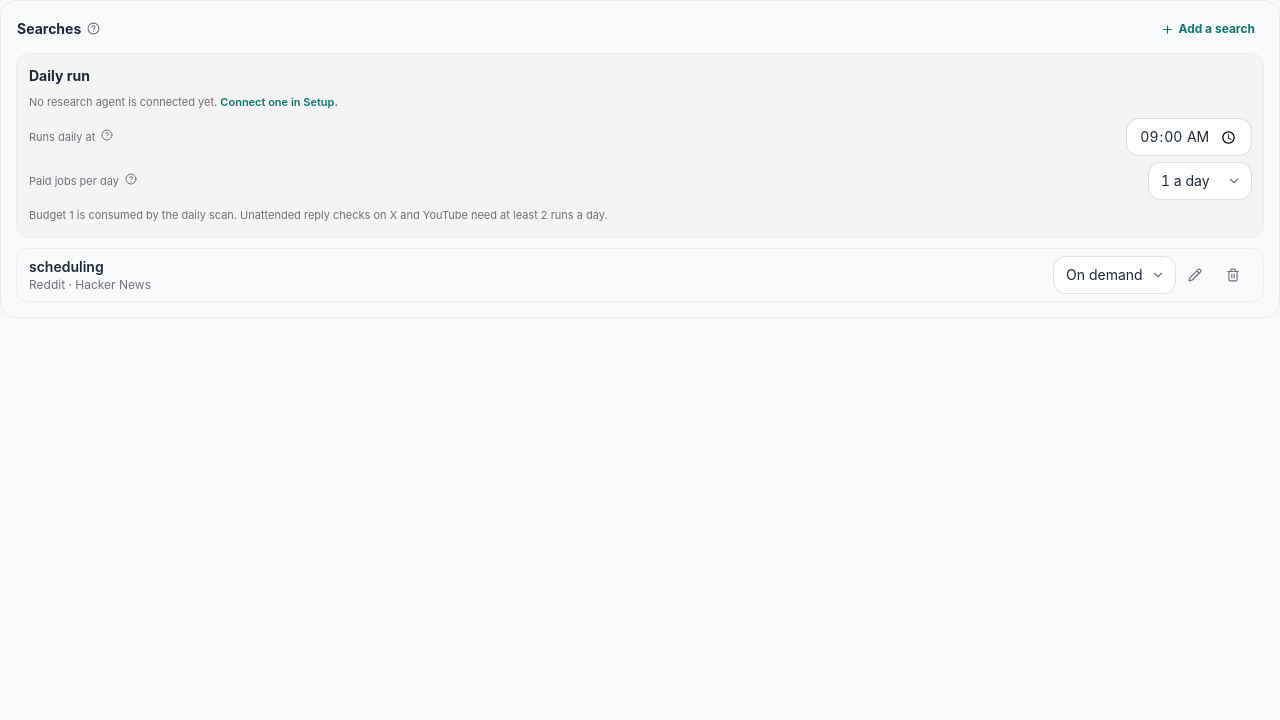
RadarSearches query editor › the keyword/competitor narrowing sits behind a "narrow it down" disclosure, not on the first surface
Click the button named "edit query" at (1195, 275), box [1177,257,1213,293]
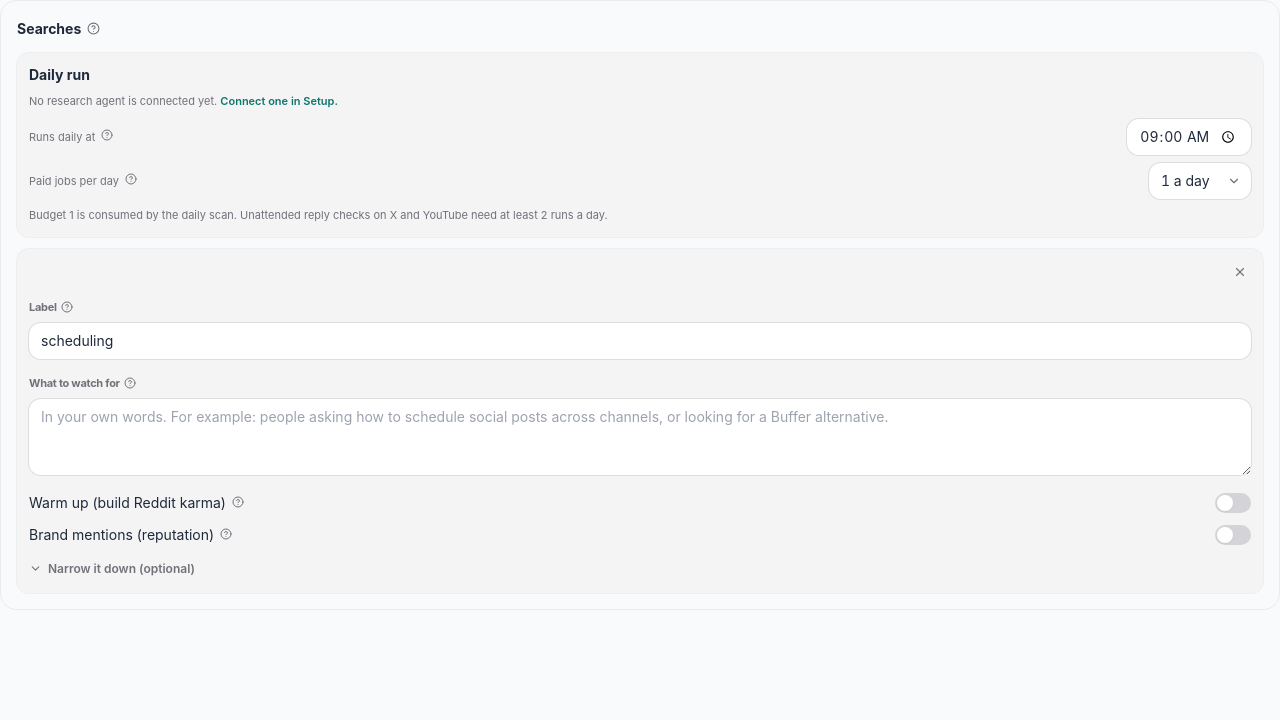
Now the heading "Narrow it down (optional)" is shown, box [29,561,195,576]
